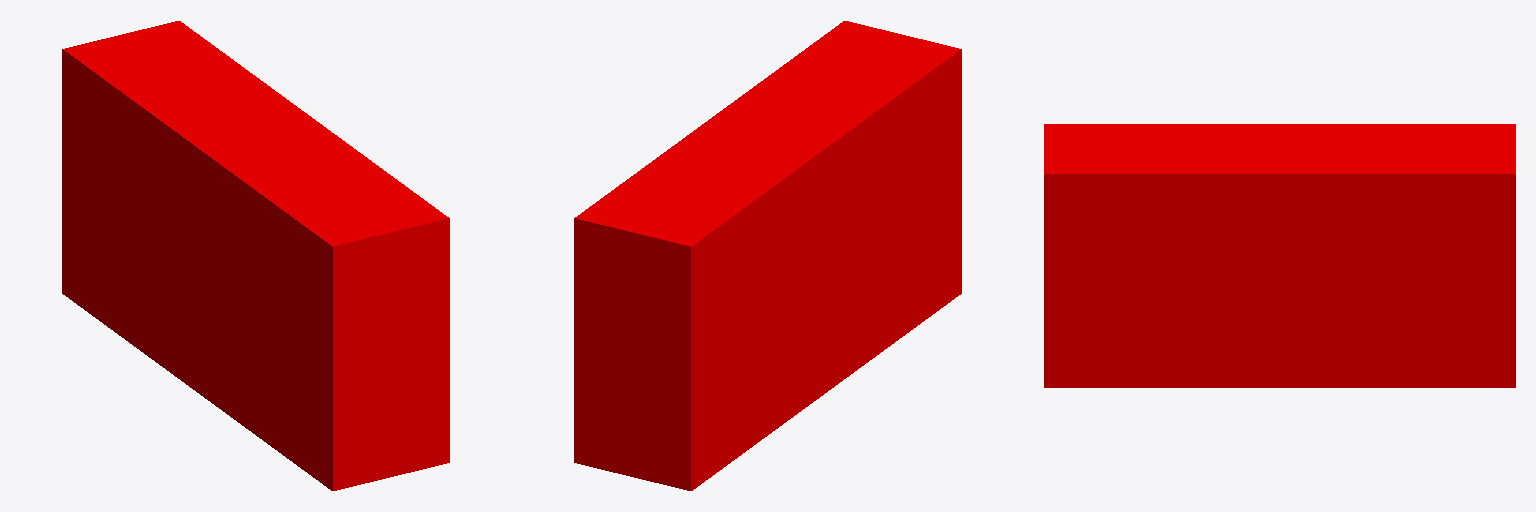
URDF robot description (table_only):
<?xml version="1.0"?>
<robot name="table_only">

  <!-- World -->
  <link name="world"/>

  <!-- Table: 1 x 3 x 1 m -->
  <link name="table">
    <visual>
      <origin xyz="0 0 0.5"/>
      <geometry>
        <box size="0.5 2 1"/>
      </geometry>
      <material name="red">
        <color rgba="1 0 0 1.0"/>
      </material>
    </visual>

    <collision>
      <origin xyz="0 0 0.5"/>
      <geometry>
        <box size="0.5 2 1"/>
      </geometry>
    </collision>
  </link>

  <!-- Fix table to world -->
  <joint name="world_to_table" type="fixed">
    <parent link="world"/>
    <child link="table"/>
  </joint>

</robot>

--- Facts derived from the render (not from the file) ---
3 views of the same robot in one strip: view 1: azimuth 30°, elevation 25°; view 2: azimuth 150°, elevation 25°; view 3: azimuth 270°, elevation 25° (orthographic).
Robot: table_only — 2 links, 1 joints (1 fixed); root link world; default pose: every joint at zero.
Visible links, largest first — view 1: table; view 2: table; view 3: table.
Link boxes in pixels (box(x1,y1,x2,y2)): table: box(62, 21, 449, 490); table: box(574, 21, 961, 490); table: box(1044, 124, 1515, 387).
Size in the robot's own frame: 0.5 by 2 by 1 metres.
Geometry: primitives only (box / cylinder / sphere), no mesh files.